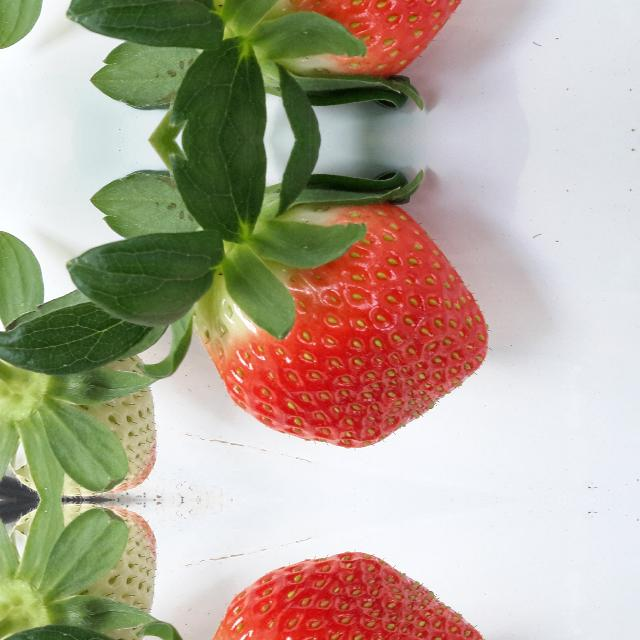Health_100: (194, 202, 492, 448), (194, 552, 491, 640), (194, 0, 491, 78)
Health_50: (7, 336, 160, 490), (6, 510, 159, 640)
